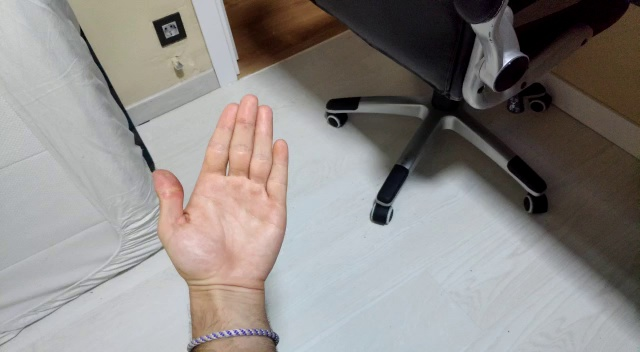Palm: (150, 91, 305, 295)
